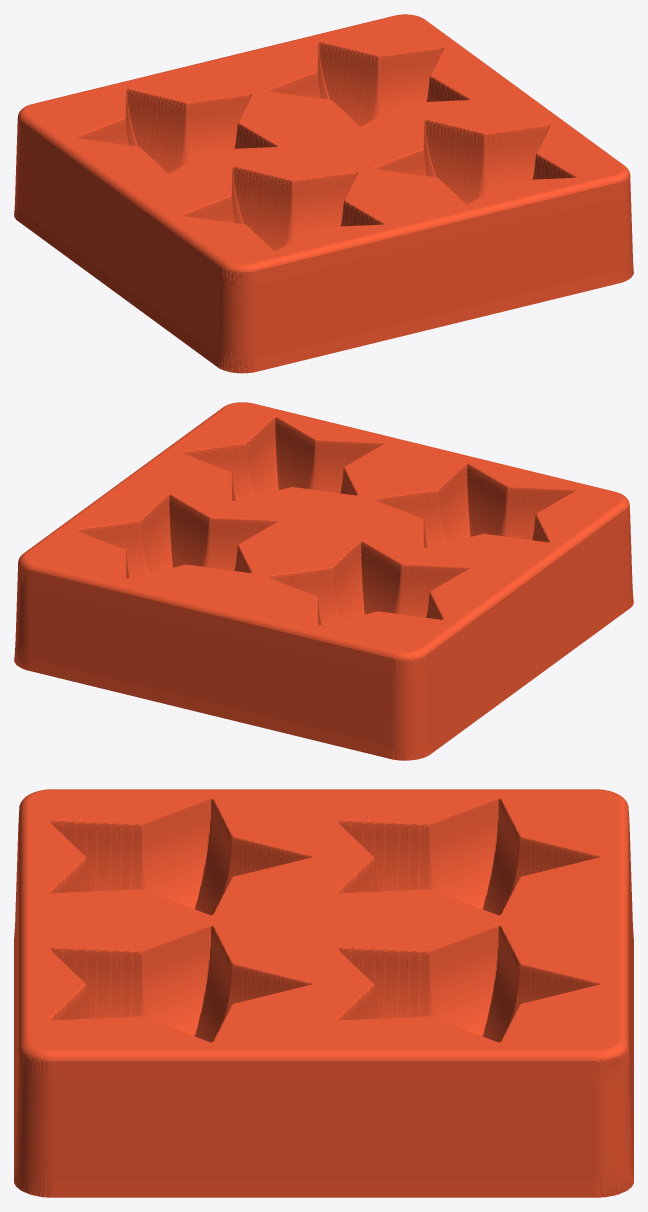
File: mold.glb
3 views of the same model, one above another, from view 1: azimuth 30°, elevation 25°; view 2: azimuth 150°, elevation 25°; view 3: azimuth 270°, elevation 25° (orthographic). The views are drawn at different scales.
Visible parts, largest first — view 1: geometry_0; view 2: geometry_0; view 3: geometry_0.
Part boxes in pixels (x1,y1,x2,y2): geometry_0: [14, 14, 633, 373]; geometry_0: [14, 402, 633, 760]; geometry_0: [14, 789, 633, 1197].
Bounding box in the file's own units: 0.1493 × 0.036 × 0.1433.
